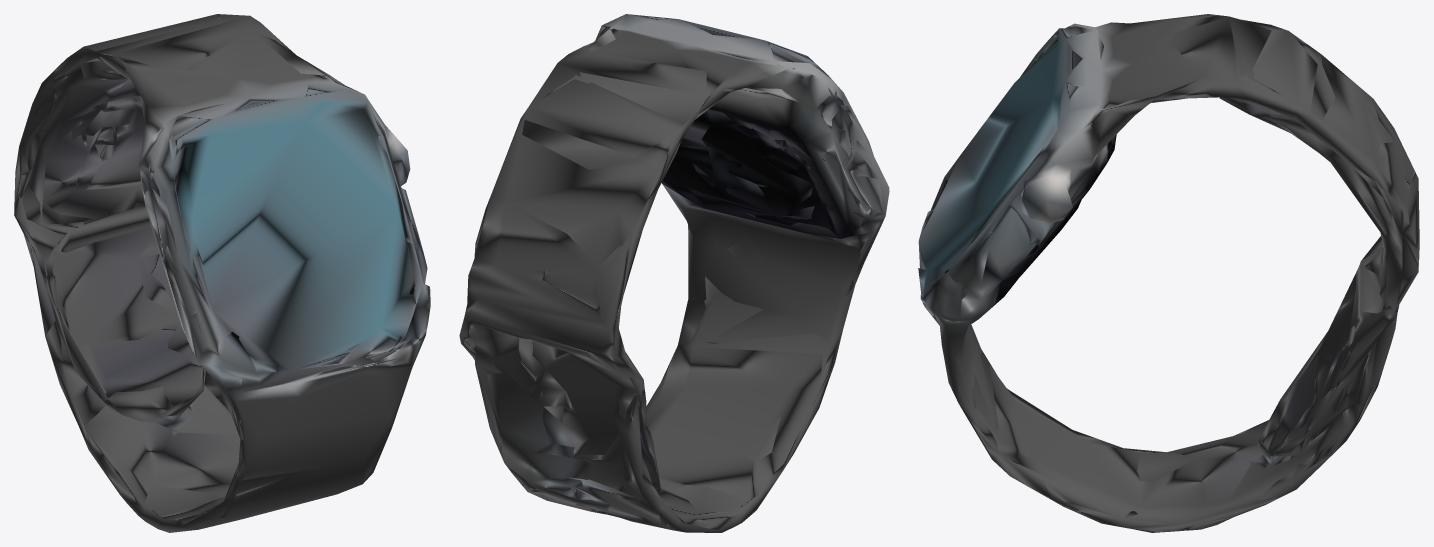
File: gen3d-smartwatch-lod0.glb
3 renders of one model, left to right at view 1: azimuth 30°, elevation 25°; view 2: azimuth 150°, elevation 25°; view 3: azimuth 270°, elevation 25°, orthographic. The views are drawn at different scales.
Parts seen in each view (by area): view 1: part_0; view 2: part_0; view 3: part_0.
Part boxes in pixels (left/top/right/bottom): part_0: left=14, top=14, right=430, bottom=532; part_0: left=459, top=14, right=889, bottom=532; part_0: left=918, top=14, right=1419, bottom=532.
Size of the model in its own units: 0.5821 by 0.9973 by 1.01.
